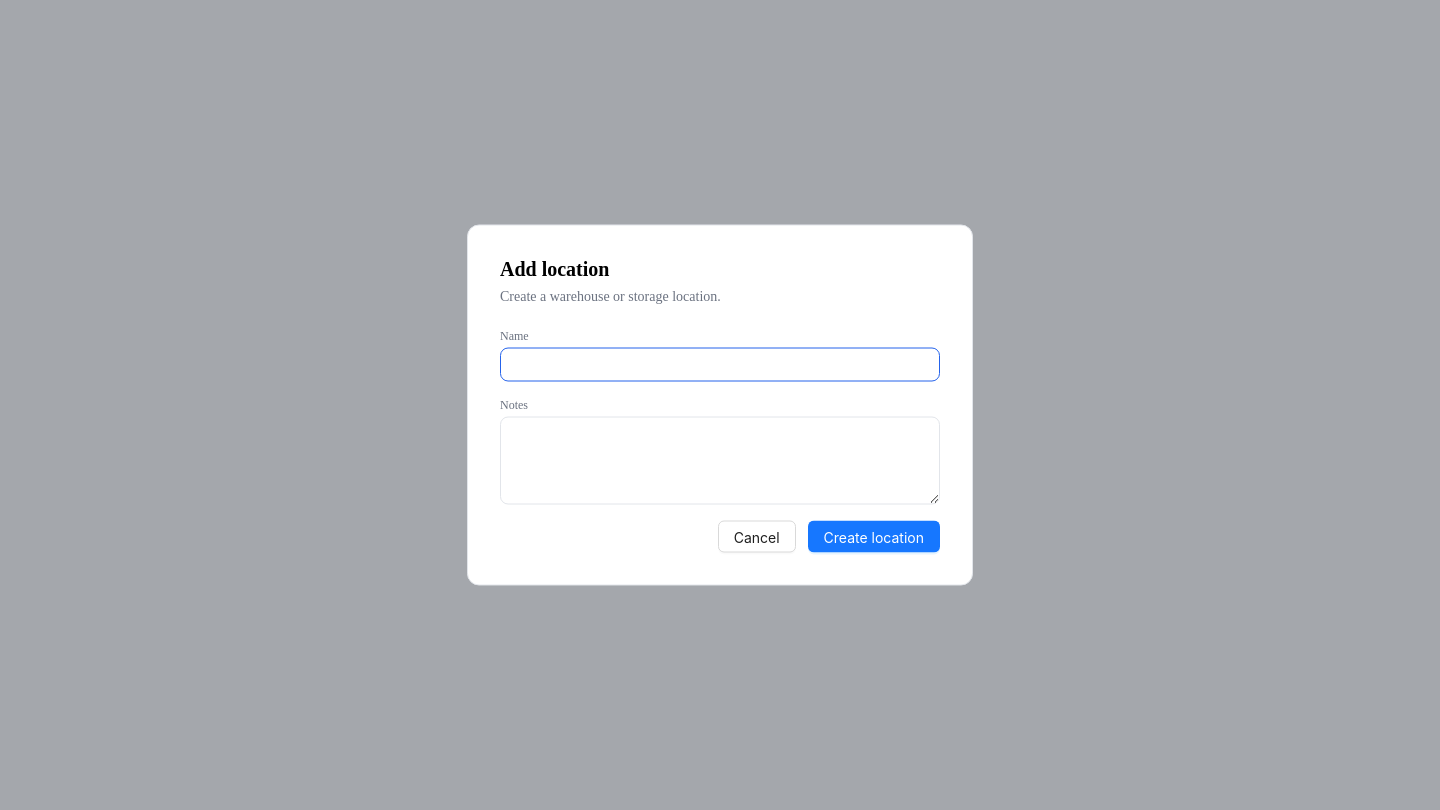
LocationFormDialog › shows a name required error and does not submit
The image size is (1440, 810).
Step 1. Click the button with test id "location-form-submit" → (874, 536), box [808, 520, 940, 552]
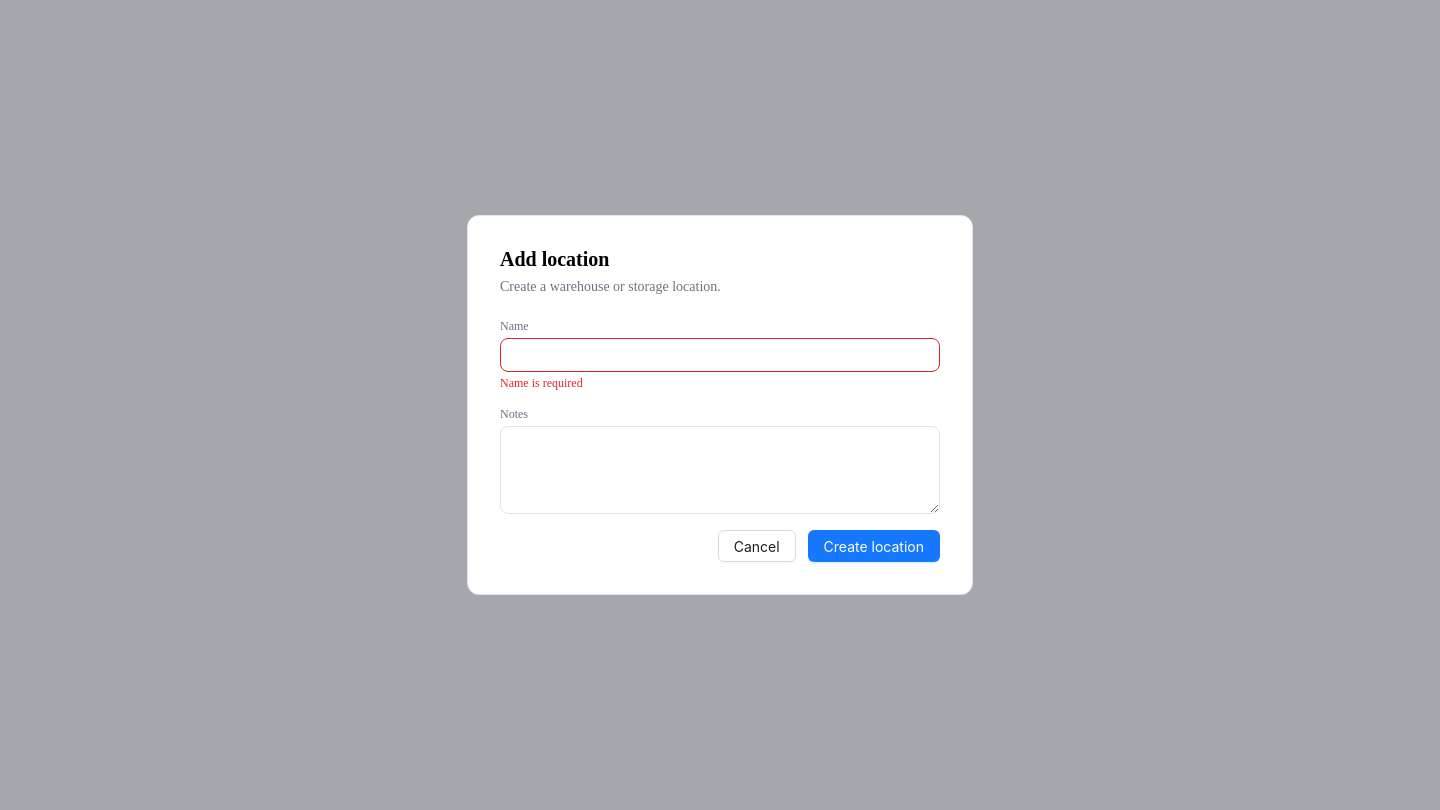
Now the text with test id "location-form-name-error" reads "Name is required", box [500, 376, 583, 390]
